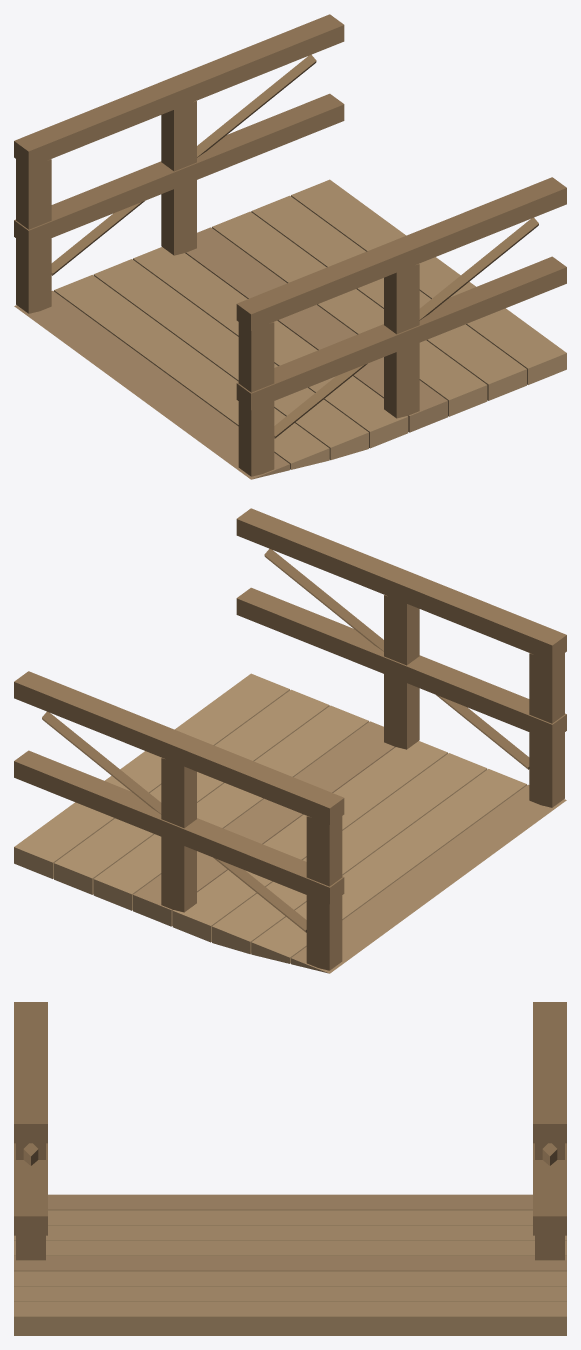
Rendered from bridge_abutment_01.glb.
3 renders of one model, top to bottom at view 1: azimuth 30°, elevation 25°; view 2: azimuth 150°, elevation 25°; view 3: azimuth 270°, elevation 25°, orthographic. The views are drawn at different scales.
Visible parts, largest first — view 1: Bridge_abutment_01; view 2: Bridge_abutment_01; view 3: Bridge_abutment_01.
Boxes of the visible parts, x1,y1,x2,y2 form: Bridge_abutment_01: (14, 14, 566, 479); Bridge_abutment_01: (14, 508, 566, 973); Bridge_abutment_01: (14, 1002, 566, 1335).
Size of the model in its own units: 2 by 1.3 by 2.6.
